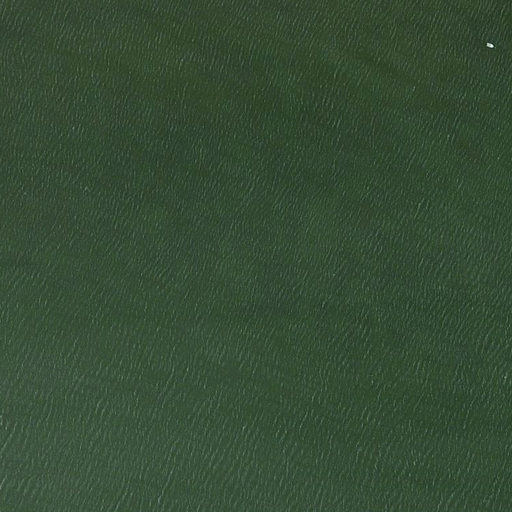ship: (485, 41, 496, 49)
